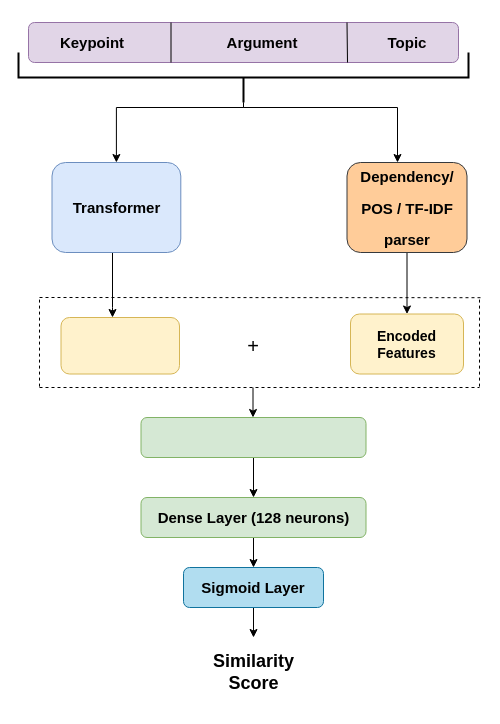
Image size: 500x724. Some labels were removed from this diagram. Here are the shapes that lost their labels. From the top down, the centre of each, then its label:
the point at 120,345: Transformer output
the point at 253,437: Dense Layer (256 neurons)
